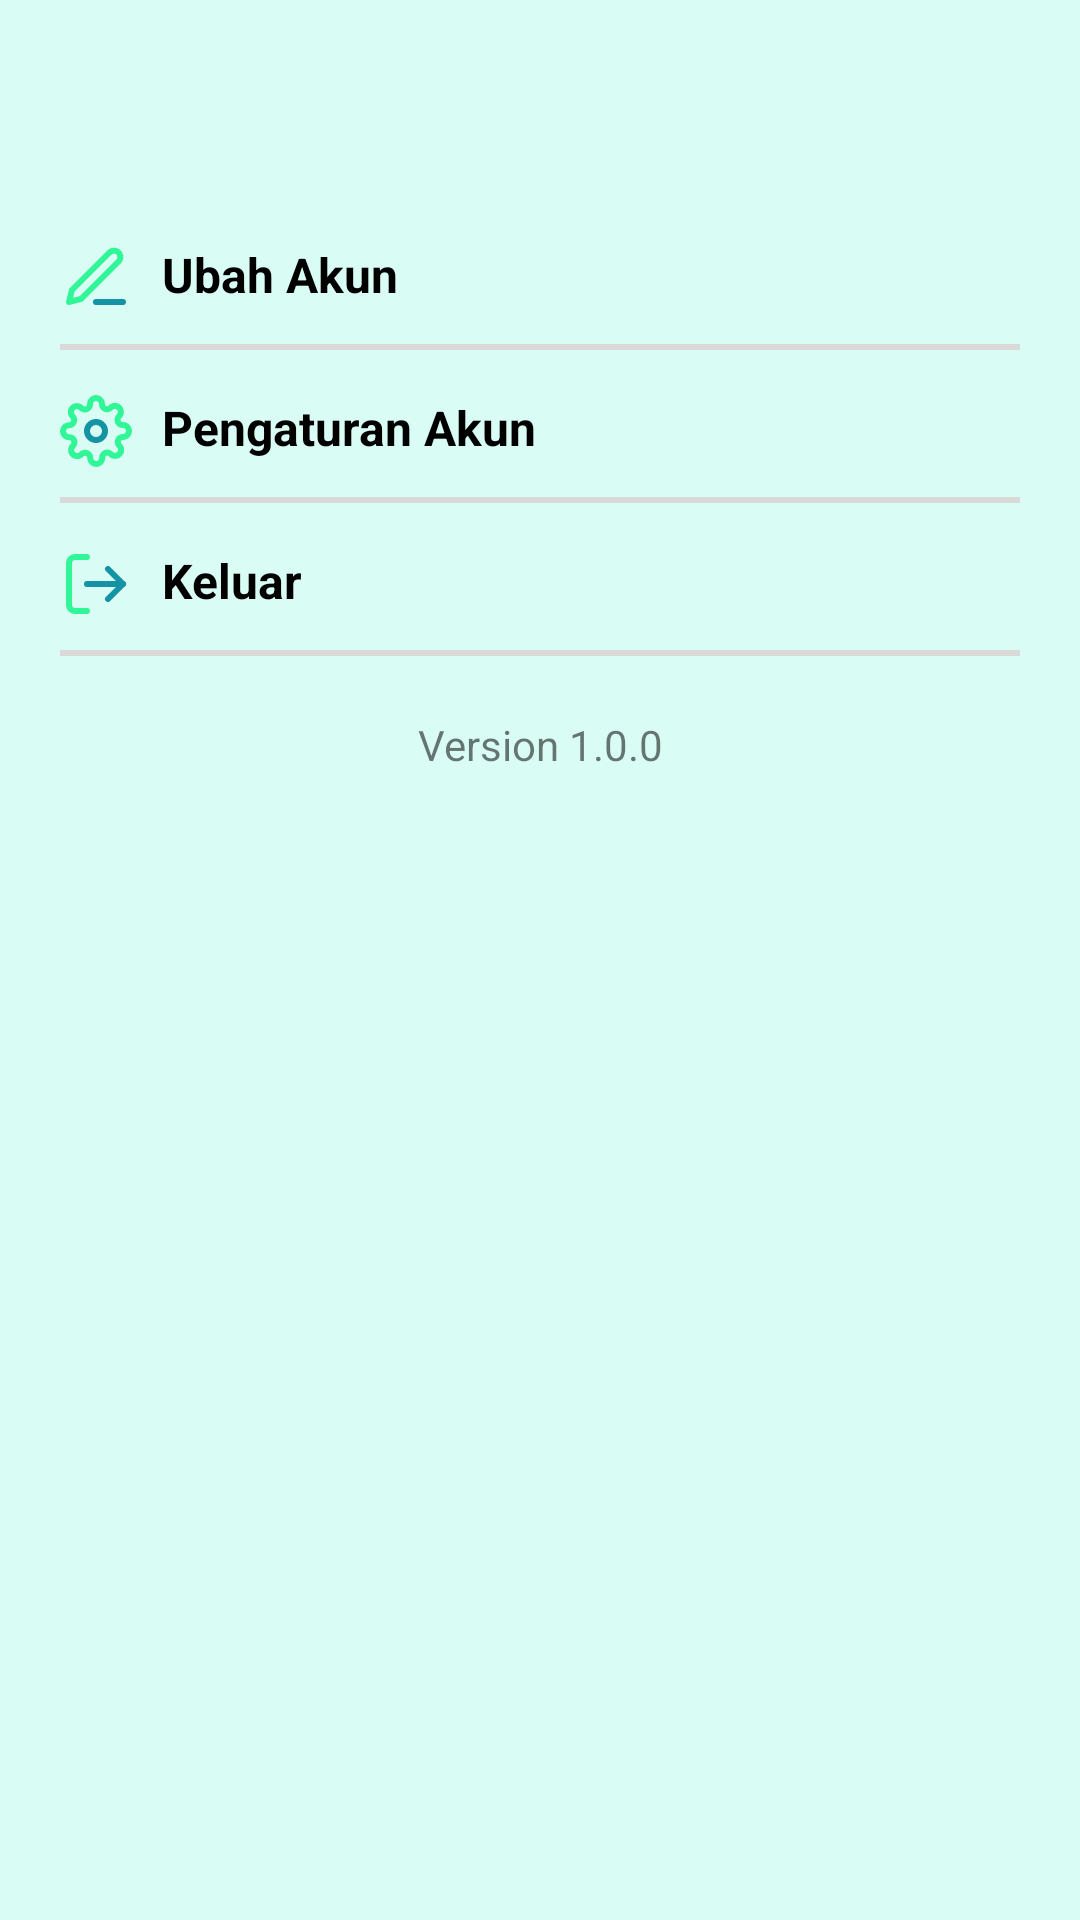

Named icons in this screenshot (1080w x 1920h) and their bounding boxes, [x1, y1, x2, y2]:
edit: [66, 247, 126, 305]
log out: [66, 554, 126, 614]
settings: [60, 395, 132, 467]
